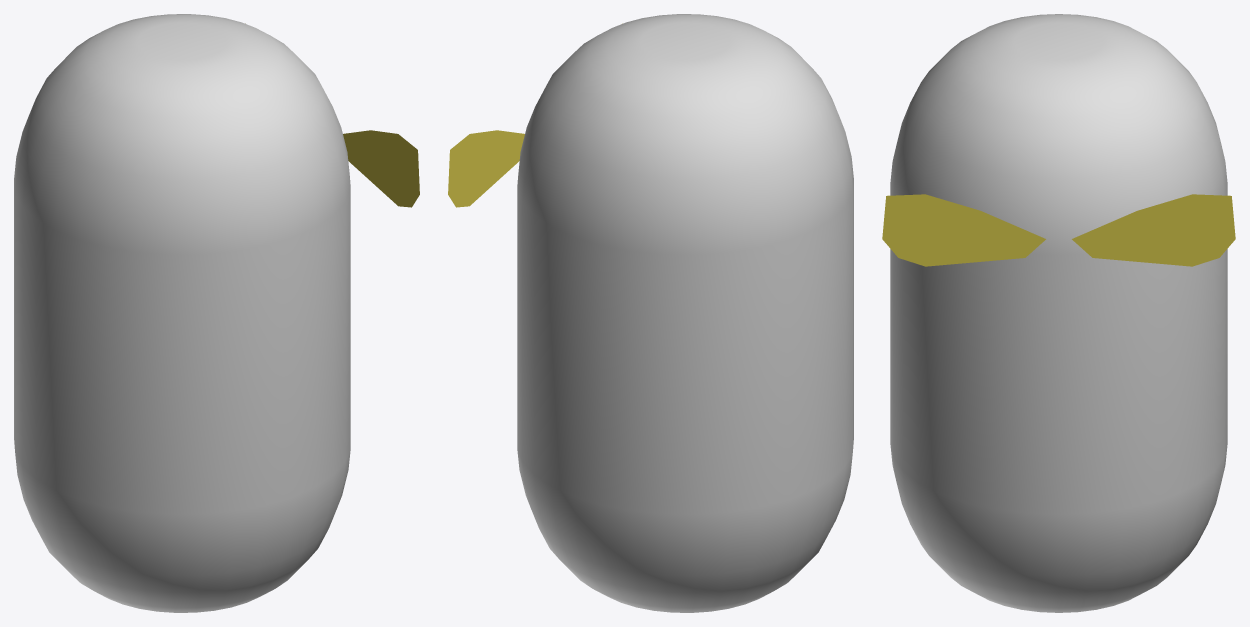
Rendered from Zombie.fbx.
The picture shows the model from 3 angles, left to right: view 1: azimuth 30°, elevation 25°; view 2: azimuth 150°, elevation 25°; view 3: azimuth 270°, elevation 25°; orthographic projection.
Parts seen in each view (by area): view 1: Cylinder, Plane; view 2: Cylinder, Plane; view 3: Cylinder, Plane.
Part boxes in pixels (<box>): Cylinder: <box>14,14,350,612</box>; Plane: <box>245,23,419,207</box>; Cylinder: <box>517,14,853,612</box>; Plane: <box>448,23,622,207</box>; Cylinder: <box>890,14,1227,612</box>; Plane: <box>882,194,1235,266</box>.
Bounding box in the file's own units: 202 × 355 × 210.
